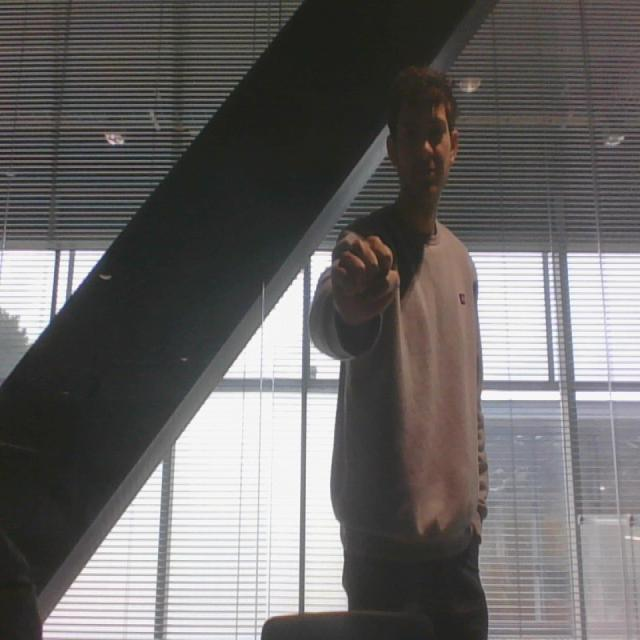stop: (327, 228, 403, 342)
